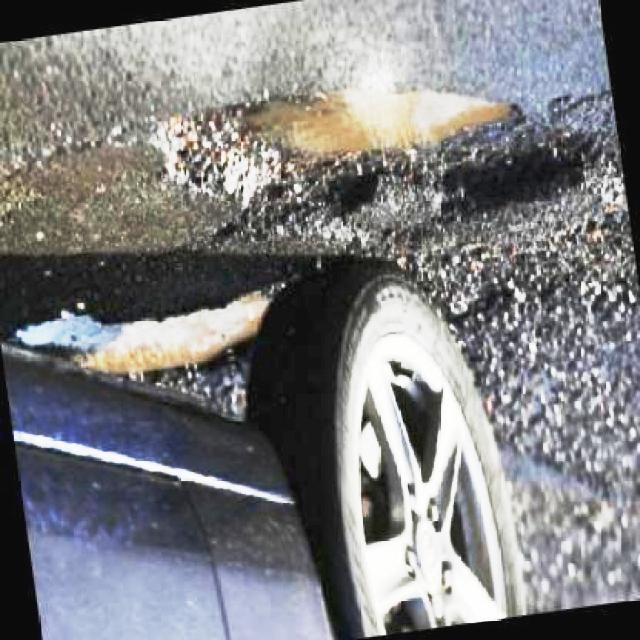pothole: (146, 84, 537, 238), (12, 270, 306, 382), (432, 129, 603, 234)
